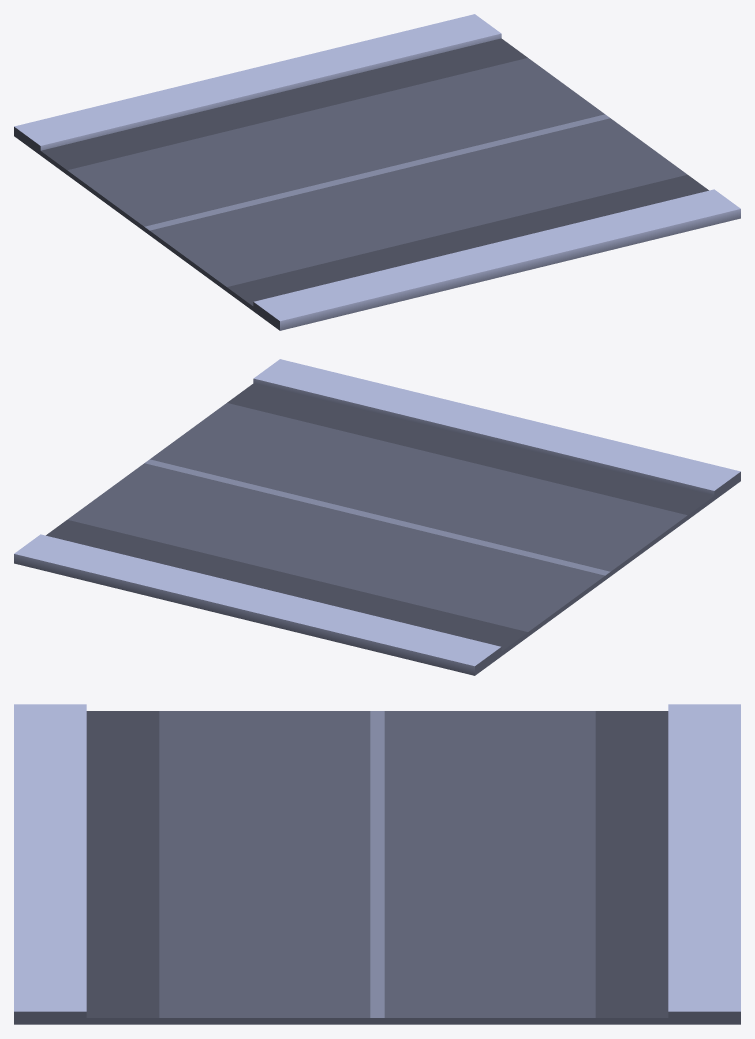
The model's file is road-straight.fbx.
3 views of the same model, one above another, from view 1: azimuth 30°, elevation 25°; view 2: azimuth 150°, elevation 25°; view 3: azimuth 270°, elevation 25° (orthographic). The views are drawn at different scales.
Parts seen in each view (by area): view 1: road-straight; view 2: road-straight; view 3: road-straight.
Boxes of the visible parts, box(x1,y1,x2,y2) form: road-straight: box(14, 14, 740, 330); road-straight: box(14, 359, 740, 675); road-straight: box(14, 704, 740, 1024).
Bounding box in the file's own units: 100 × 2 × 100.
